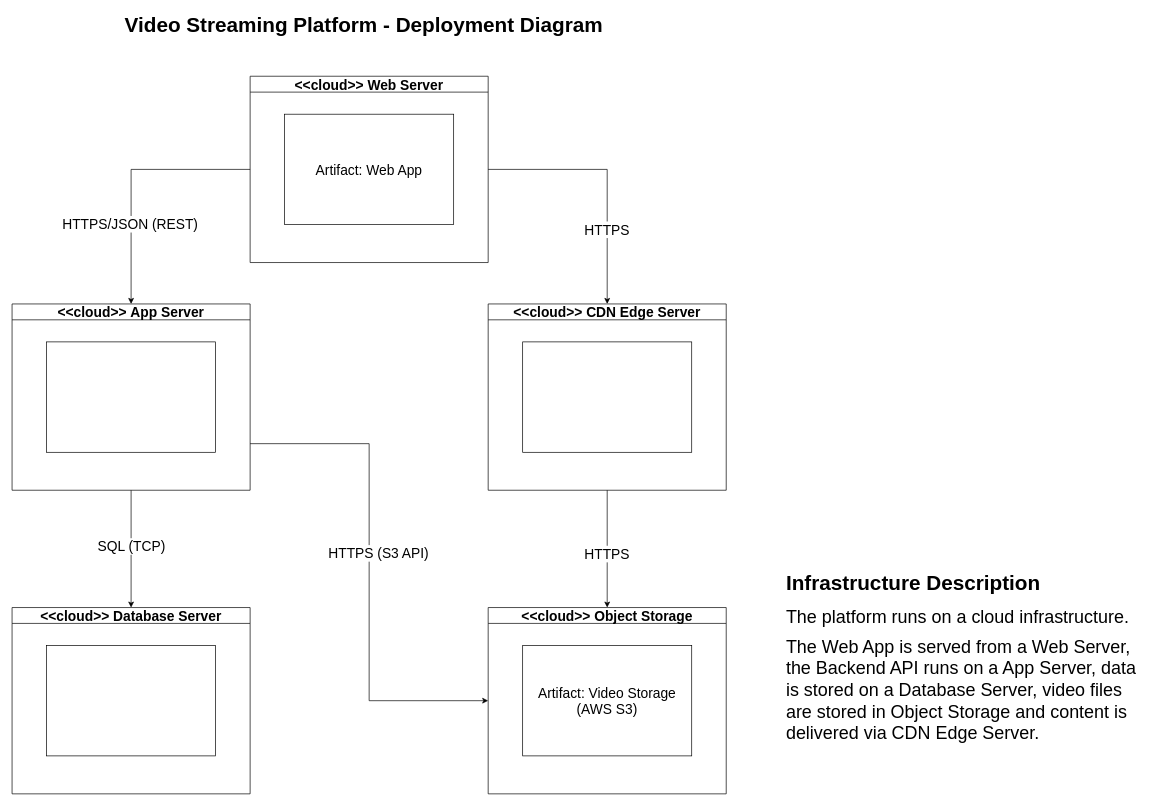
The diagram is 1149 pixels wide and 807 high, and some of its shapes have lost their labels. The centre of each missing label's shape, as x and y in pixels:
"Artifact: Backend API" belongs at [131,396].
"Artifact: CDN" belongs at [607,396].
"Artifact: Database" belongs at [131,700].
